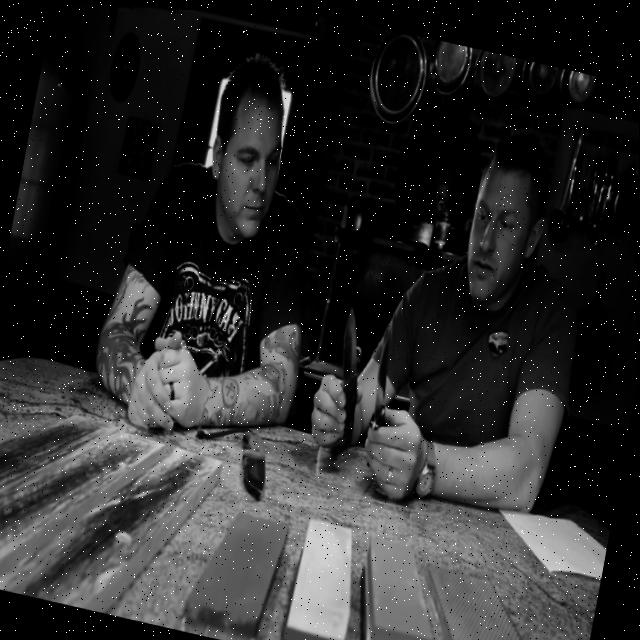knife: (322, 298, 375, 446), (366, 328, 400, 427), (232, 424, 273, 498)
